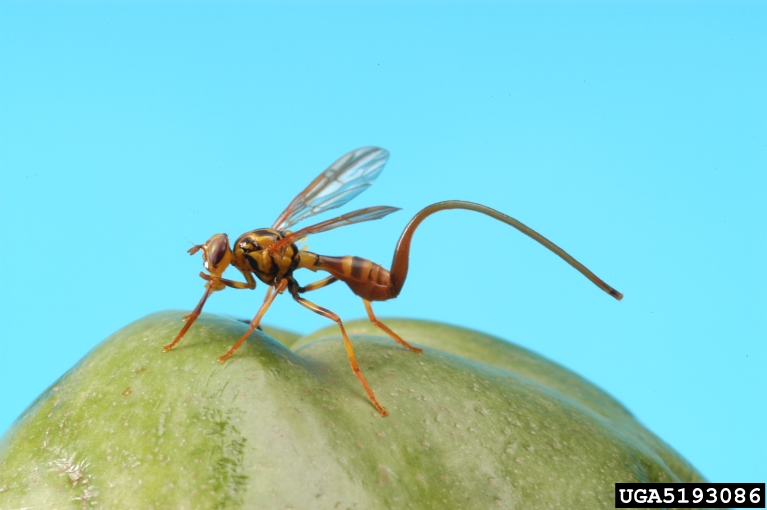Fruit fly: (128, 159, 638, 428)
